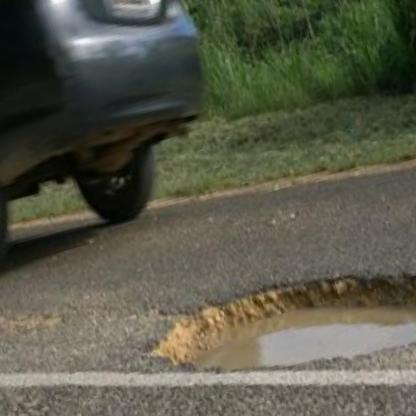pothole: (150, 272, 416, 366)
